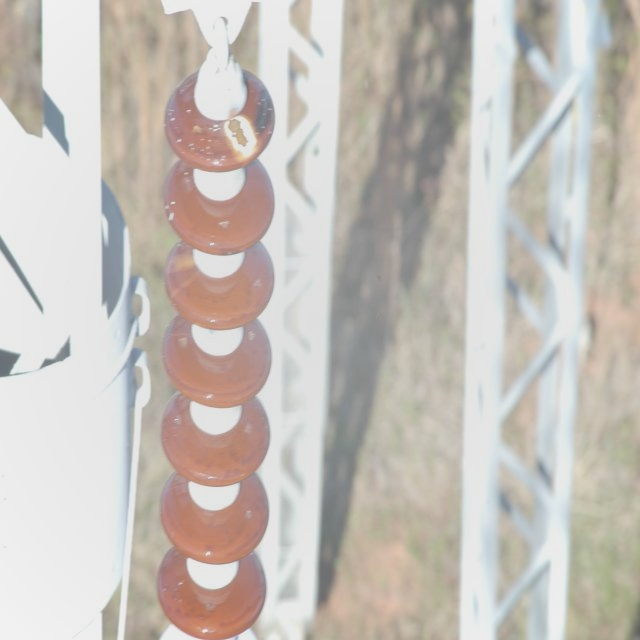insulator: (157, 66, 275, 640)
